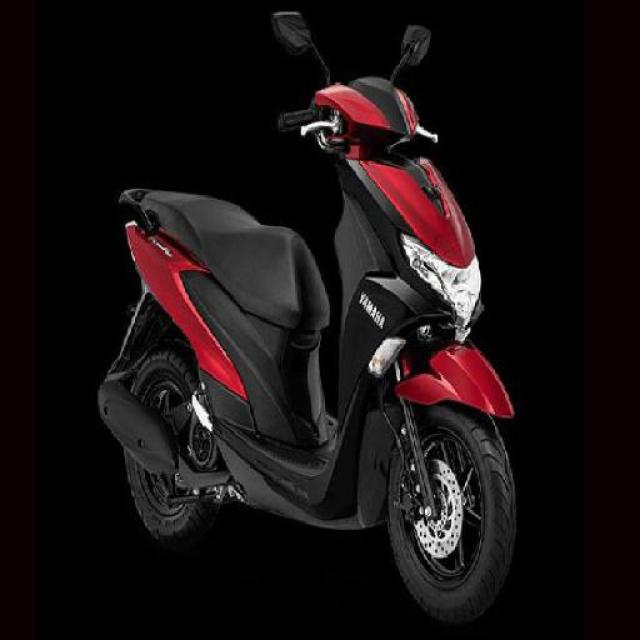All: (89, 12, 520, 626)
Head: (275, 64, 443, 157)
Tail: (109, 175, 196, 256)
